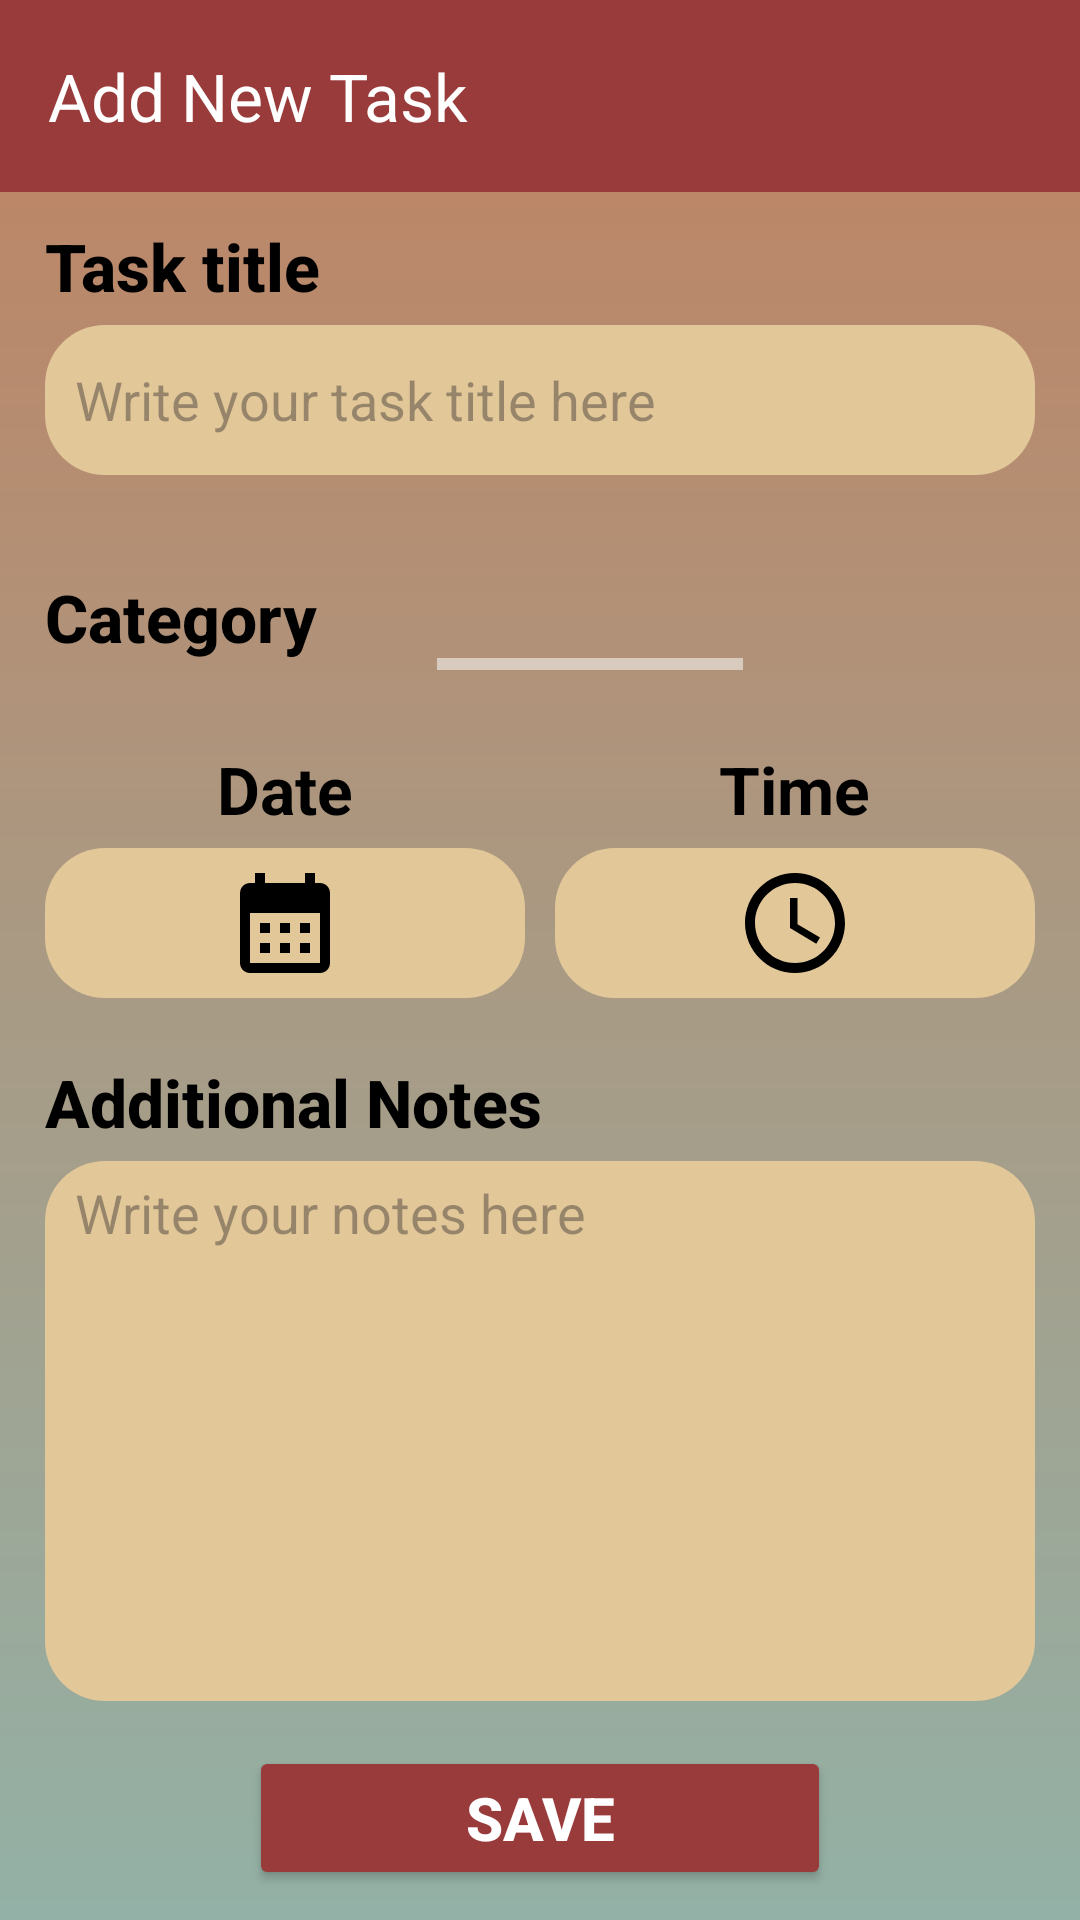

Point at icon controls on the screen. Image size 1080×1920, points as (x,y).
Calendar Icon: (285,923)
Clock Icon: (795,923)
